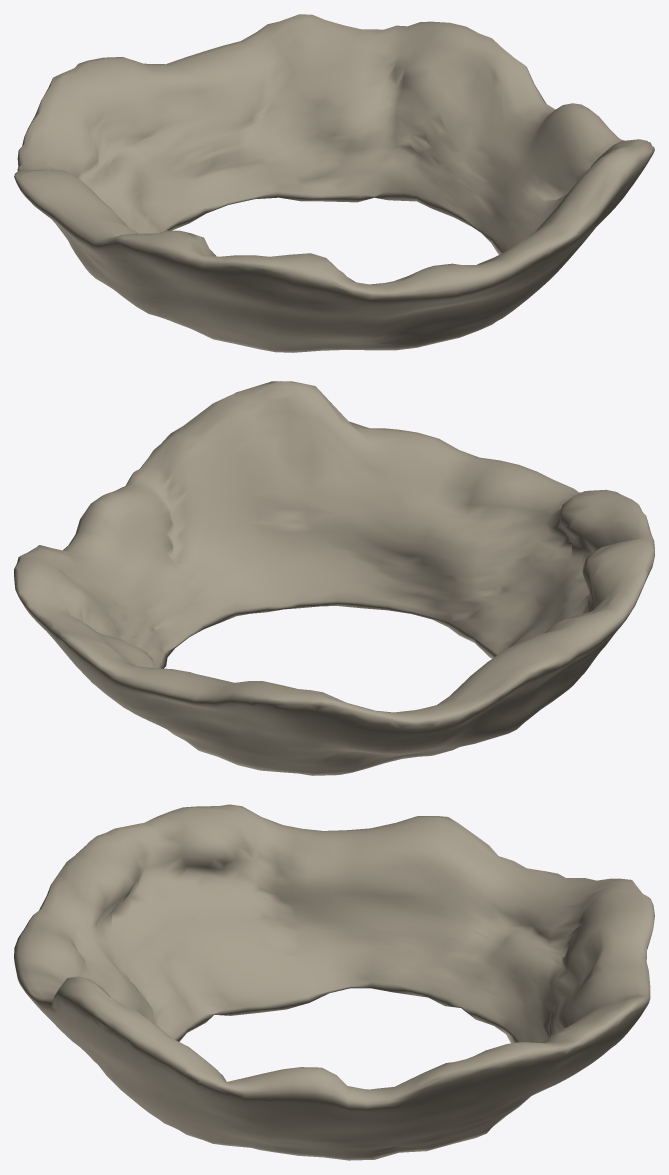
File: 3.2_exam_3dscene_Steinkreis_Simpel.glb
3 views of the same model, one above another, from view 1: azimuth 30°, elevation 25°; view 2: azimuth 150°, elevation 25°; view 3: azimuth 270°, elevation 25° (orthographic). The views are drawn at different scales.
Parts seen in each view (by area): view 1: Steinring; view 2: Steinring; view 3: Steinring.
Part boxes in pixels (x1,y1,x2,y2): Steinring: (14,14,654,352); Steinring: (14,381,654,775); Steinring: (14,804,654,1160).
Size of the model in its own units: 141 by 44.52 by 147.
